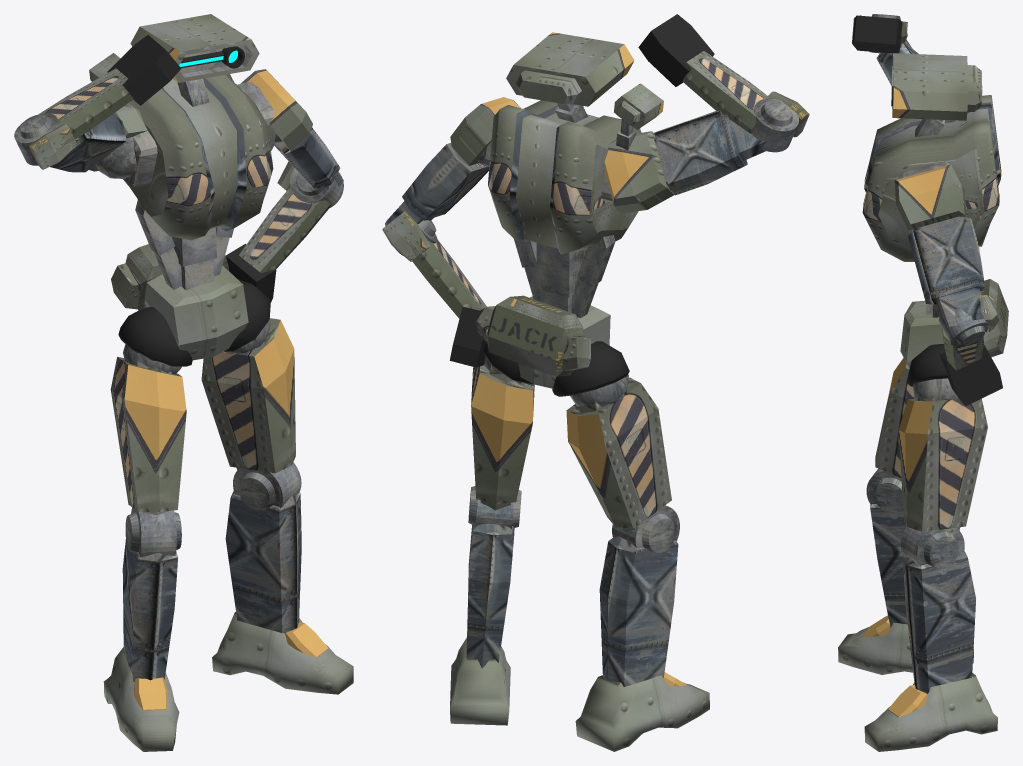
Rendered from Robot 4 pose.fbx.
3 views of the same model, side by side, from view 1: azimuth 30°, elevation 25°; view 2: azimuth 150°, elevation 25°; view 3: azimuth 270°, elevation 25° (orthographic). The views are drawn at different scales.
Parts seen in each view (by area): view 1: Cube, Cube.031, Cylinder.004, Icosphere.001, Icosphere, Cylinder.003, Cube.016, Cylinder.002, Cube.001, Cylinder.005, Cube.018, Icosphere.005 (+5 smaller); view 2: Cube, Cylinder.003, Icosphere, Cube.031, Icosphere.004, Icosphere.001, Cube.018, Cylinder.004, Cube.001, Icosphere.005, Cylinder.002, Cube.002 (+5 smaller); view 3: Cube, Icosphere.001, Cylinder.004, Icosphere.005, Cube.016, Cube.001, Cylinder.003, Cube.031, Cube.018, Cylinder.005, Icosphere, Cube.005 (+3 smaller).
Part boxes in pixels (bbox=[...]): Cube: bbox=[123, 74, 276, 240]; Cube.031: bbox=[111, 244, 270, 366]; Cylinder.004: bbox=[225, 462, 301, 633]; Icosphere.001: bbox=[201, 318, 295, 473]; Icosphere: bbox=[110, 344, 186, 515]; Cylinder.003: bbox=[122, 507, 181, 681]; Cube.016: bbox=[212, 612, 353, 694]; Cylinder.002: bbox=[14, 68, 133, 169]; Cube.001: bbox=[130, 14, 259, 82]; Cylinder.005: bbox=[239, 161, 343, 273]; Cube.018: bbox=[103, 647, 179, 751]; Icosphere.005: bbox=[240, 69, 343, 189]; Cube: bbox=[483, 100, 641, 254]; Cylinder.003: bbox=[599, 505, 679, 686]; Icosphere: bbox=[566, 374, 671, 531]; Cube.031: bbox=[476, 295, 629, 396]; Icosphere.004: bbox=[604, 110, 766, 213]; Icosphere.001: bbox=[471, 356, 534, 510]; Cube.018: bbox=[575, 672, 709, 751]; Cylinder.004: bbox=[466, 486, 521, 668]; Cube.001: bbox=[506, 32, 634, 106]; Icosphere.005: bbox=[386, 97, 520, 223]; Cylinder.002: bbox=[682, 51, 809, 152]; Cube.002: bbox=[514, 235, 615, 318]; Cube: bbox=[862, 95, 1001, 261]; Icosphere.001: bbox=[898, 378, 987, 531]; Cylinder.004: bbox=[900, 526, 975, 693]; Icosphere.005: bbox=[894, 164, 984, 328]; Cube.016: bbox=[864, 673, 997, 751]; Cube.001: bbox=[891, 53, 982, 120]; Cylinder.003: bbox=[866, 468, 907, 627]; Cube.031: bbox=[900, 279, 1008, 386]; Cube.018: bbox=[838, 615, 973, 674]; Cylinder.005: bbox=[938, 295, 999, 370]; Icosphere: bbox=[875, 358, 914, 477]; Cube.005: bbox=[940, 344, 1002, 406].
Bounding box in the file's own units: 707 × 1282 × 306.
